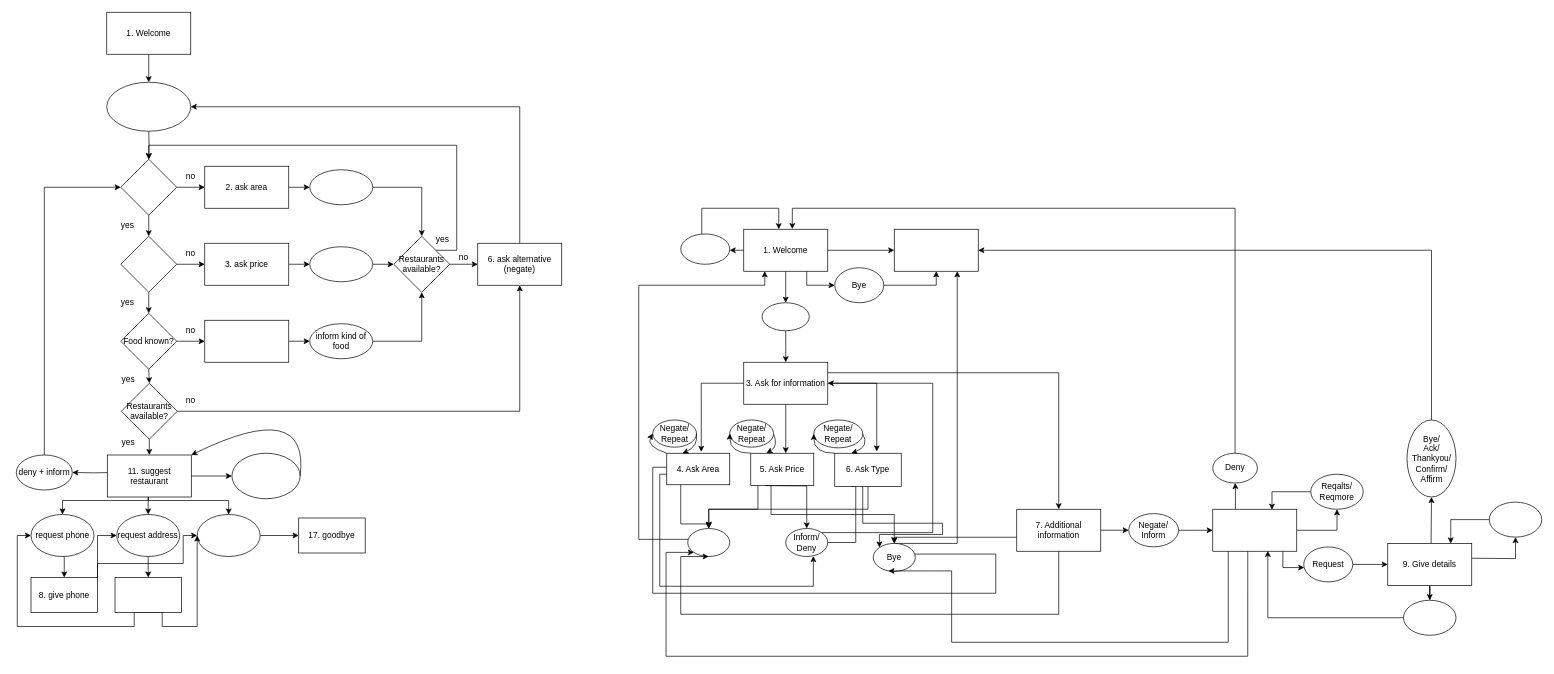
This 1554x674 diagram has some shape labels left out. Each missing label, with the centre of its shape:
2. Goodbye: [936,250]
4. ask kind of food: [246,341]
8. Suggestion: [1254,530]
9. give address: [148,594]
Area known?: [148,187]
Change (reqalts): [265,476]
Deny/ Reqalts: [1429,617]
goodbye: [228,535]
Hello/ Inform: [785,316]
inform area: [341,187]
inform preferences: [148,106]
inform price: [341,264]
Price known?: [148,264]
Repeat/ Request: [1515,519]
Restart: [708,542]
Restart/ Repeat: [705,248]
